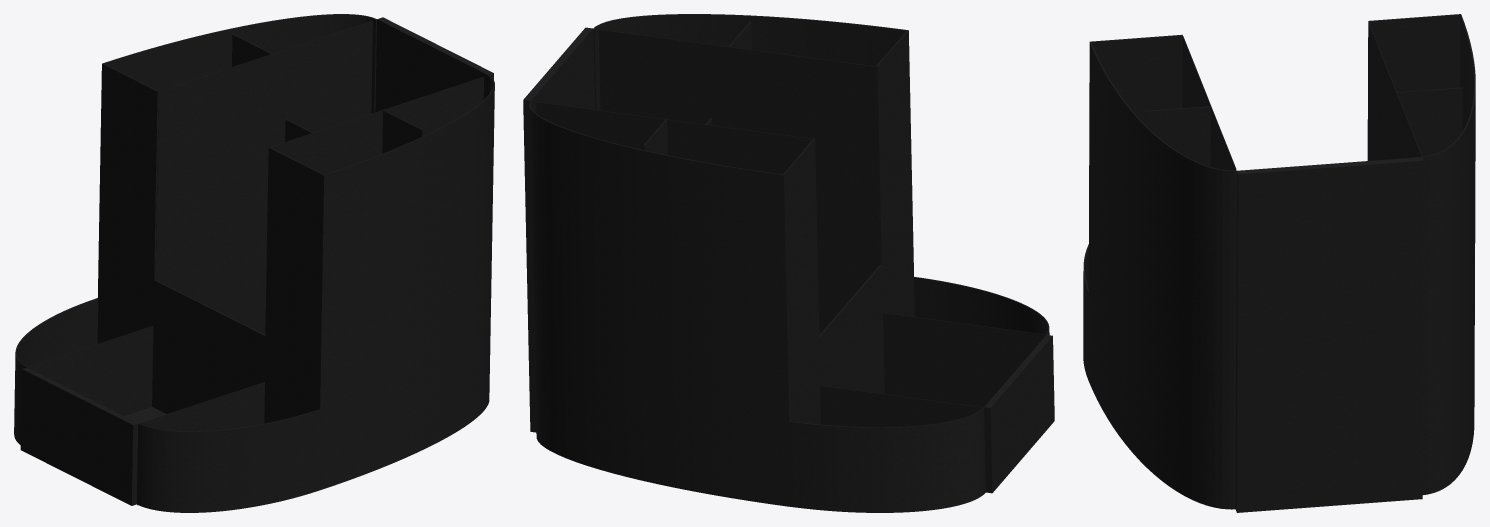
The model's file is pencil_holder.fbx.
3 renders of one model, left to right at view 1: azimuth 30°, elevation 25°; view 2: azimuth 150°, elevation 25°; view 3: azimuth 270°, elevation 25°, orthographic. The views are drawn at different scales.
Visible parts, largest first — view 1: pencil_holder; view 2: pencil_holder; view 3: pencil_holder.
Part boxes in pixels (x1,y1,x2,y2): pencil_holder: (14, 14, 494, 512); pencil_holder: (523, 14, 1054, 512); pencil_holder: (1083, 14, 1475, 512).
Size of the model in its own units: 127 by 89.98 by 92.04.
1 material, 1 textured.
